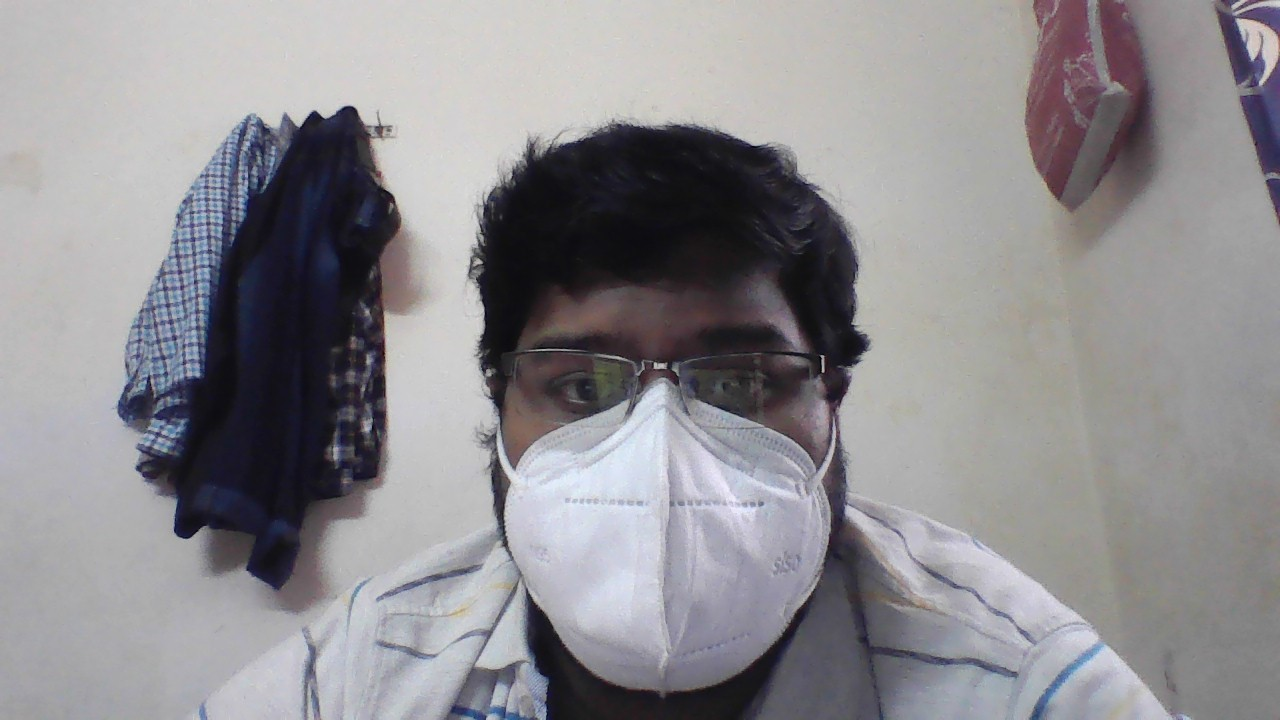Mask: (486, 398, 881, 632)
